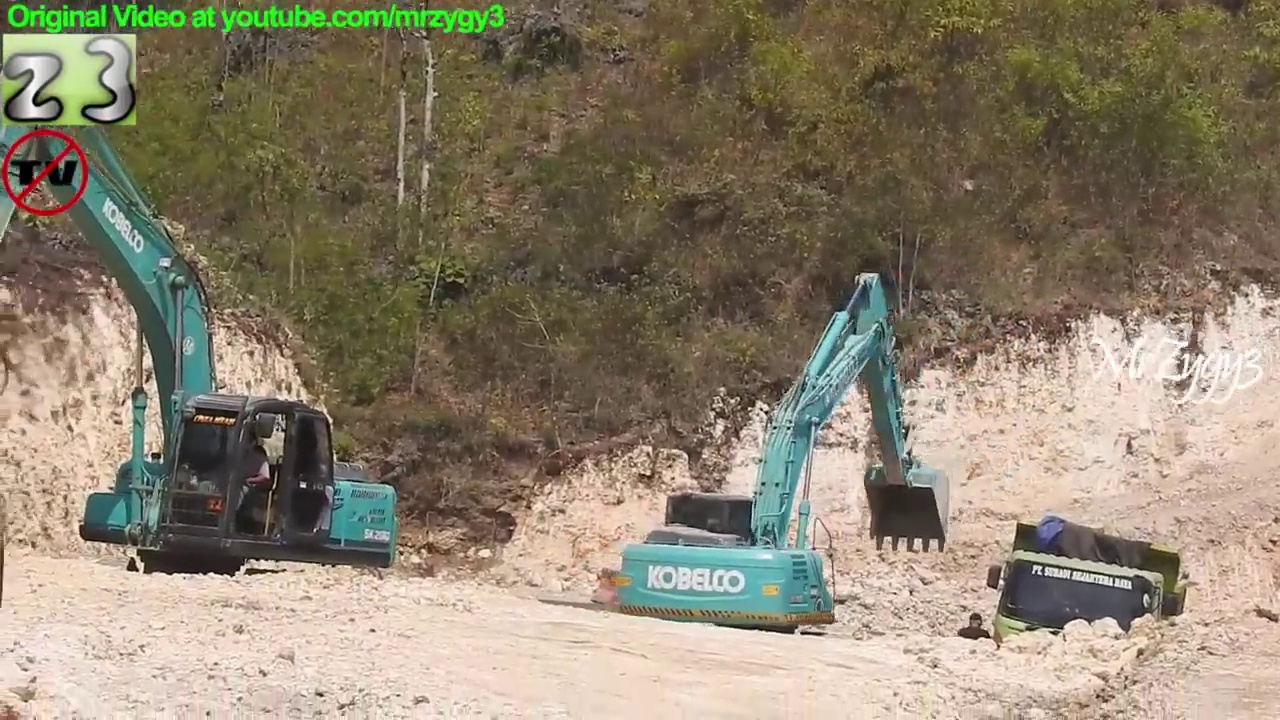excavator: (1, 50, 405, 603), (585, 261, 955, 671)
truck: (982, 513, 1198, 713)
